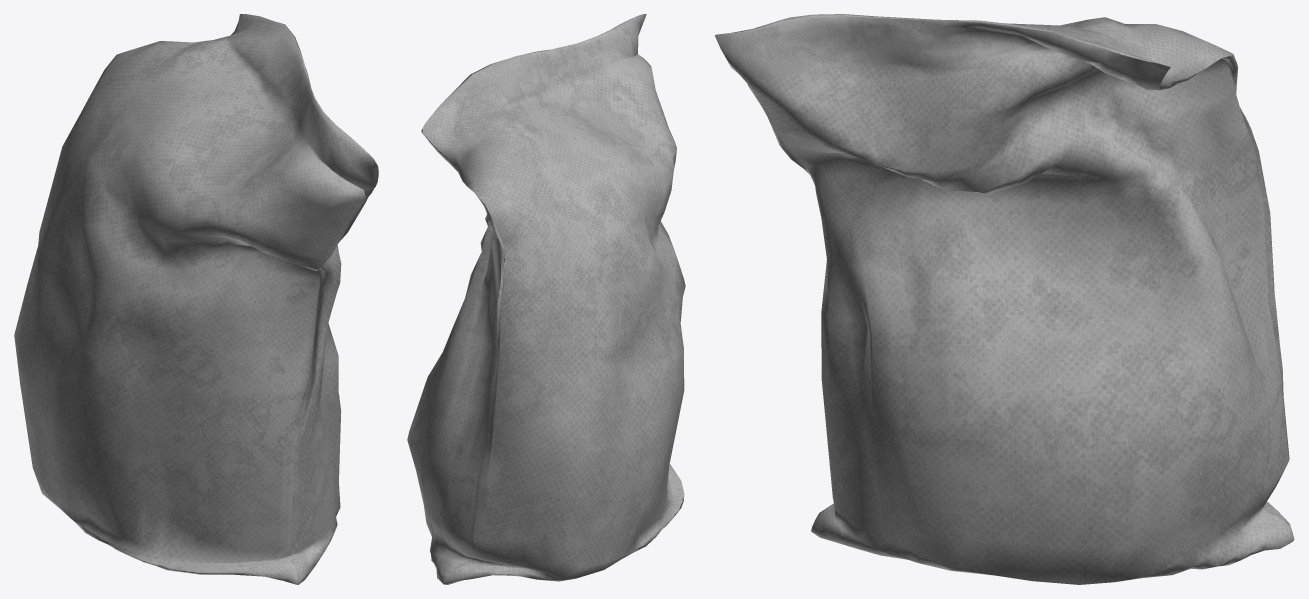
File: SM_Sack-Lean-Single-C.fbx
The picture shows the model from 3 angles, left to right: view 1: azimuth 30°, elevation 25°; view 2: azimuth 150°, elevation 25°; view 3: azimuth 270°, elevation 25°; orthographic projection. The views are drawn at different scales.
Visible parts, largest first — view 1: SM_Sack-Lean-Single-C_LOD0; view 2: SM_Sack-Lean-Single-C_LOD0; view 3: SM_Sack-Lean-Single-C_LOD0.
Part boxes in pixels (bbox=[...]): SM_Sack-Lean-Single-C_LOD0: bbox=[14, 14, 378, 584]; SM_Sack-Lean-Single-C_LOD0: bbox=[407, 14, 685, 584]; SM_Sack-Lean-Single-C_LOD0: bbox=[714, 14, 1294, 584].
Size of the model in its own units: 38.91 by 65.52 by 69.34.
Materials: 1 (1 with a texture image).
